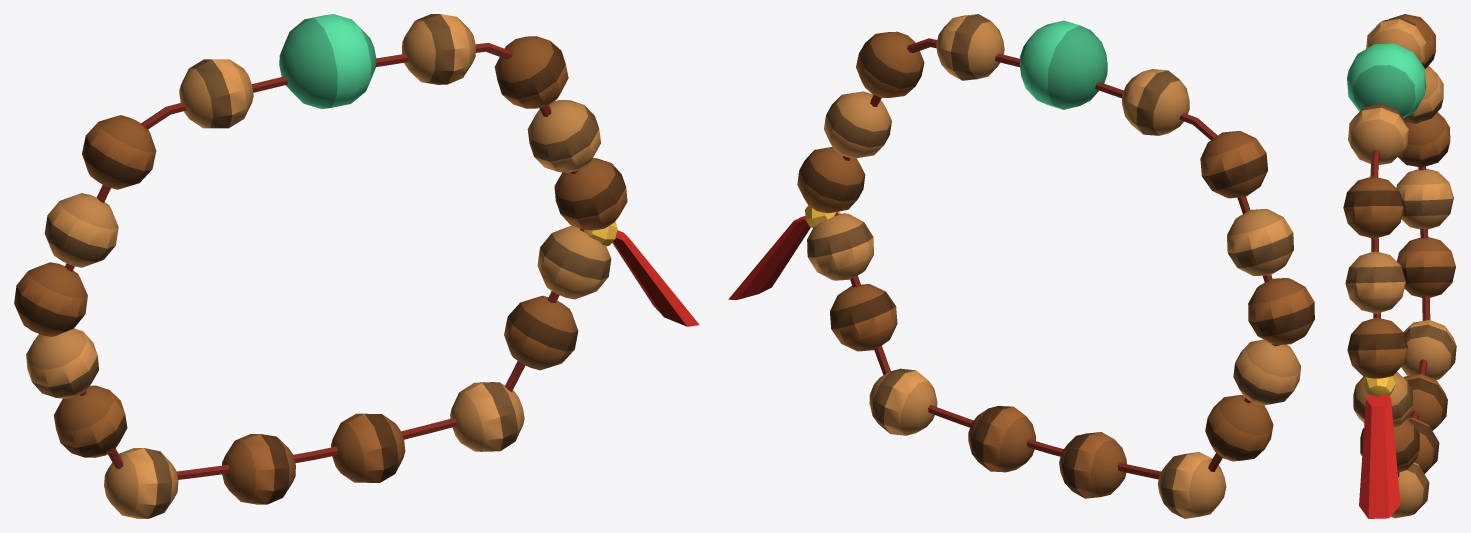
The model's file is Wrist_WoodBeads.fbx.
3 renders of one model, left to right at view 1: azimuth 30°, elevation 25°; view 2: azimuth 150°, elevation 25°; view 3: azimuth 270°, elevation 25°, orthographic. The views are drawn at different scales.
Parts seen in each view (by area): view 1: Wrist_WoodBeads; view 2: Wrist_WoodBeads; view 3: Wrist_WoodBeads.
Boxes of the visible parts, bbox=[...] form: Wrist_WoodBeads: bbox=[14, 14, 699, 518]; Wrist_WoodBeads: bbox=[728, 14, 1314, 518]; Wrist_WoodBeads: bbox=[1343, 14, 1456, 518].
Bounding box in the file's own units: 0.6034 × 0.4294 × 0.1083.
1 material, 1 textured.
